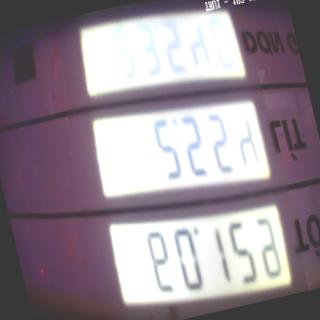screen: (48, 0, 304, 320)
